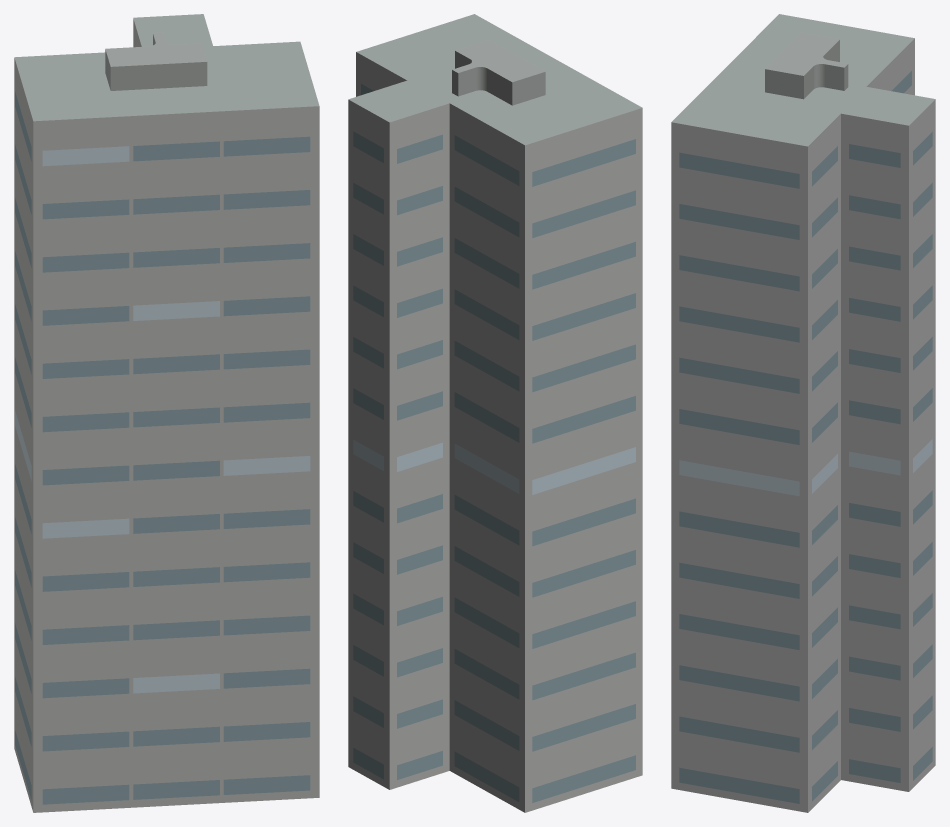
The model's file is fallback-jamsil-els-115.glb.
3 views of the same model, side by side, from view 1: azimuth 30°, elevation 25°; view 2: azimuth 150°, elevation 25°; view 3: azimuth 270°, elevation 25° (orthographic). The views are drawn at different scales.
Parts seen in each view (by area): view 1: fallback-jamsil-els-115; view 2: fallback-jamsil-els-115; view 3: fallback-jamsil-els-115.
Part boxes in pixels (box(x1,y1,x2,y2)): fallback-jamsil-els-115: box(14, 14, 319, 812); fallback-jamsil-els-115: box(348, 14, 642, 812); fallback-jamsil-els-115: box(671, 14, 935, 812).
Size of the model in its own units: 29.27 by 71 by 24.67.
